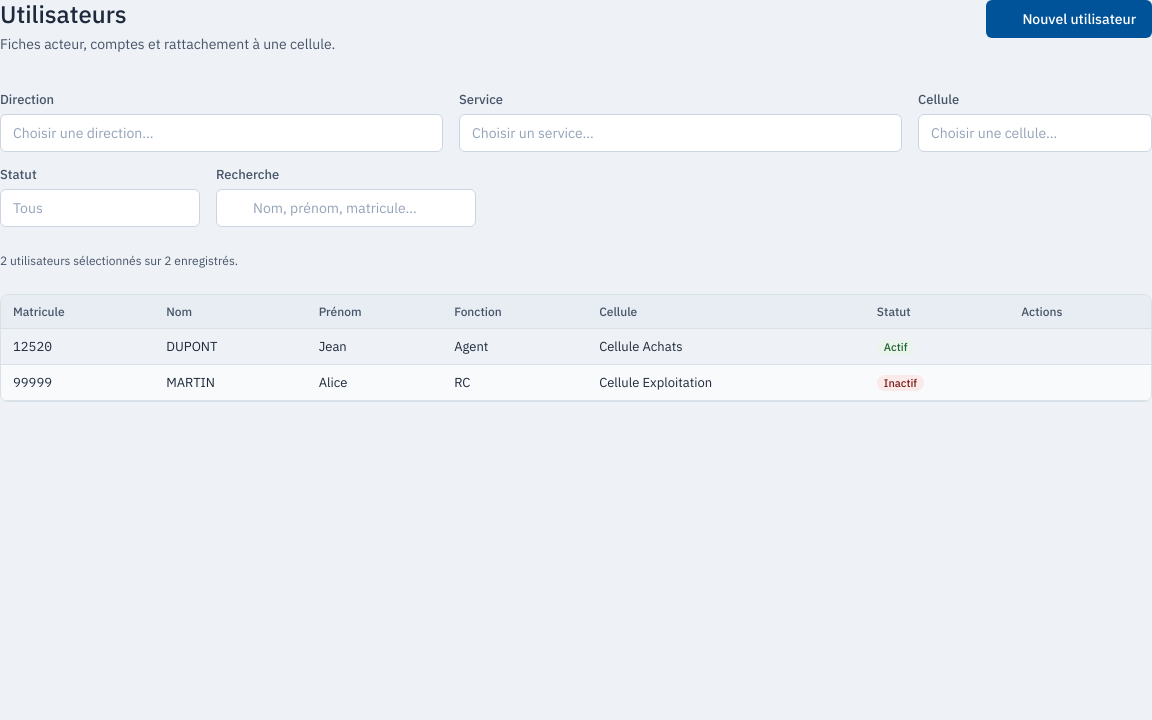
Test: Utilisateurs › ouvre le formulaire de création avec les champs attendus, y compris email
The width and height of the screenshot is (1152, 720).
Click the button "Nouvel utilisateur".
click(1069, 19)  # box [986,0,1151,38]
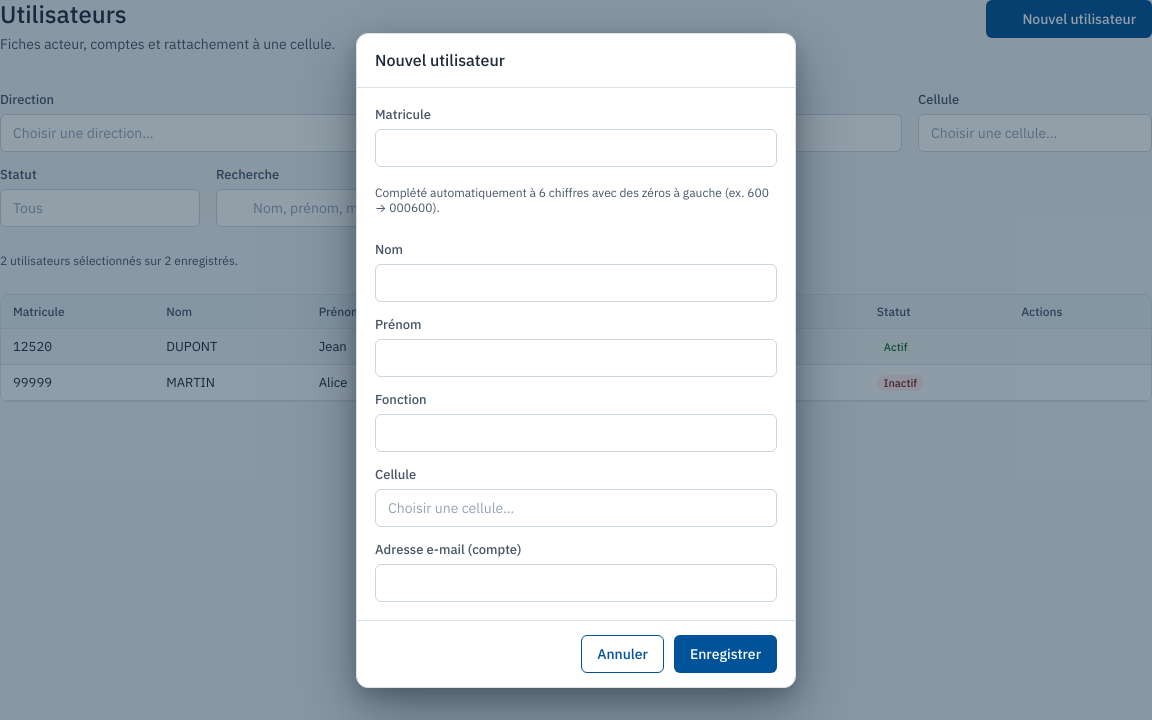
Check: the field labelled "Matricule" is shown, box [375,128,777,166]
Check: the field labelled "Nom" is shown, box [375,264,777,302]
Check: the field labelled "Prénom" is shown, box [375,338,777,376]
